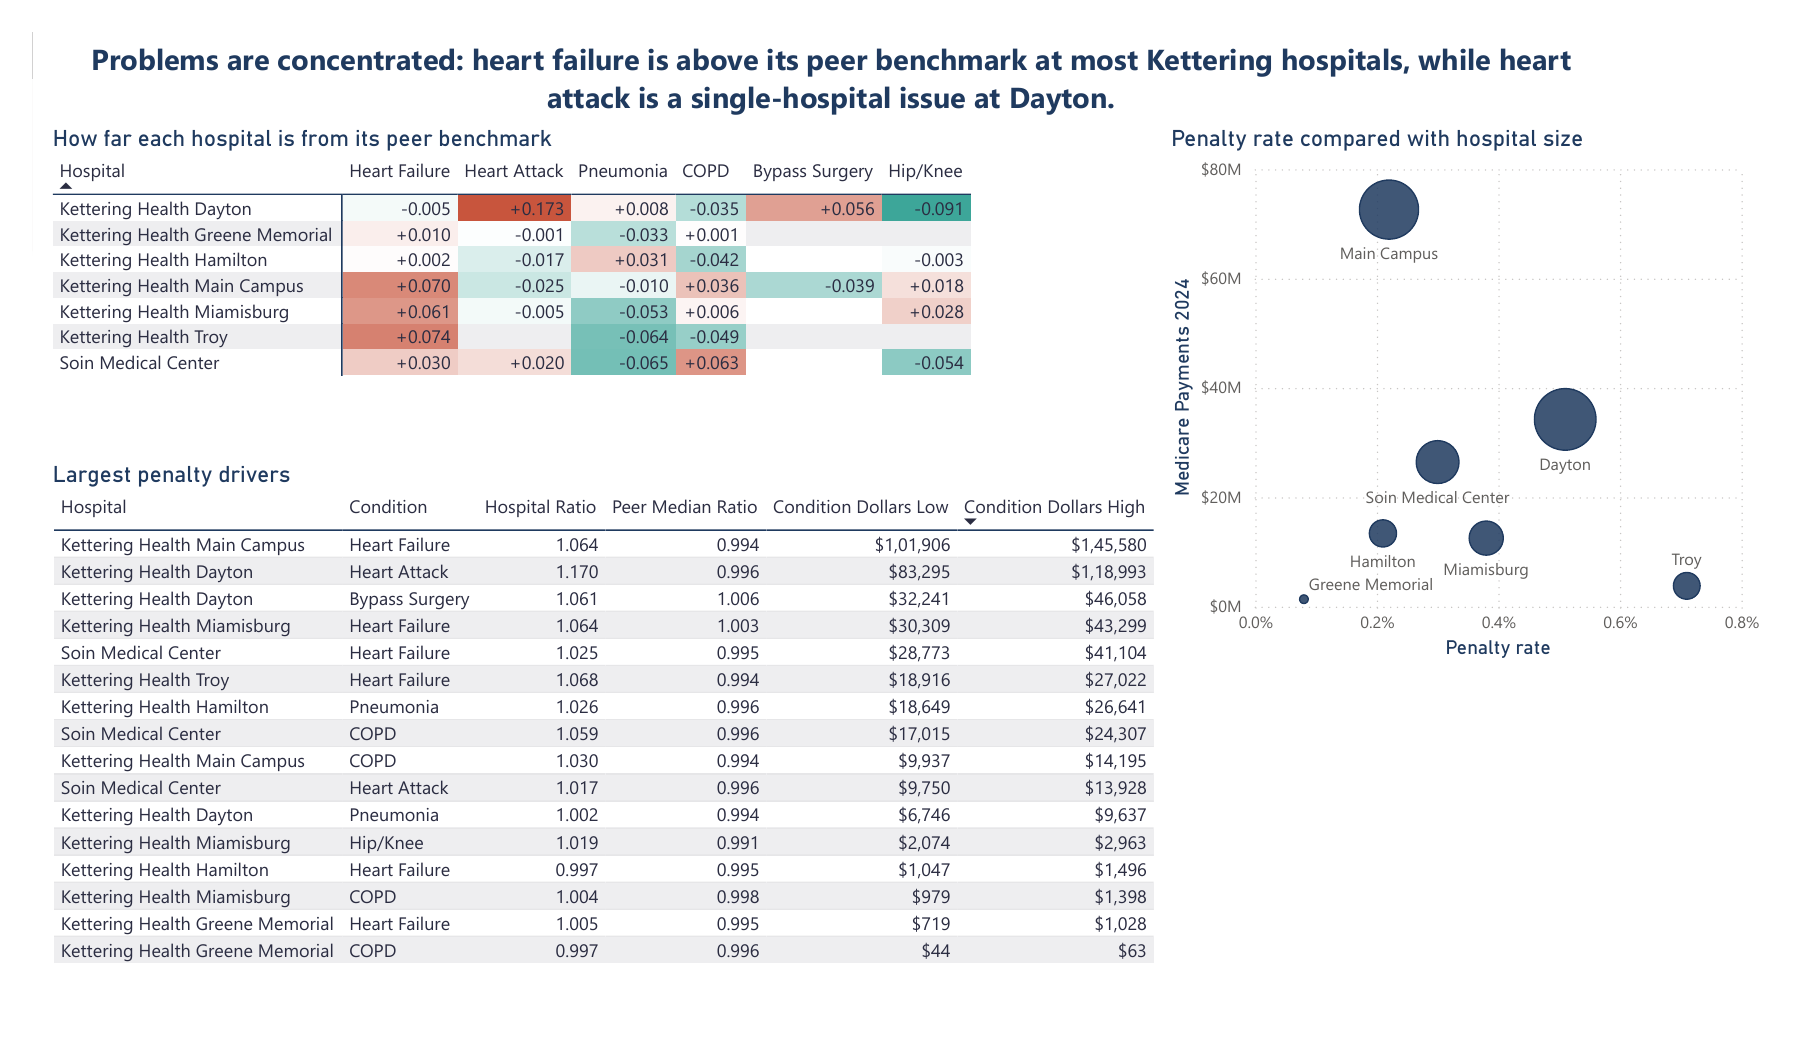

Layout of this report page (visuals, bound fields, positions):
{"tool":"powerbi","page":{"name":"Hospital and Condition Detail","canvas":[1280,720],"ordinal":1},"visuals":[{"type":"textbox","box":[10,0,1160,68.6],"z":0},{"type":"pivotTable","title":"How far each hospital is from its peer benchmark","fields":{"Rows":["dim_hospital.display_name"],"Columns":["dim_condition.condition_short"],"Values":["_measures.Ratio Gap vs Peer"]},"box":[10.1,67.9,826.1,248.5],"z":1000},{"type":"scatterChart","title":"Penalty rate compared with hospital size","fields":{"X":["_measures.Penalty Rate"],"Y":["_measures.Medicare Payments 2024"],"Size":["_measures.Estimated Penalty High"],"Category":["dim_hospital.Short Name"]},"box":[836.4,68.2,443.6,399.1],"z":2000},{"type":"tableEx","title":"Largest penalty drivers","fields":{"Values":["dim_hospital.display_name","dim_condition.condition_short","_measures.Hospital Ratio","_measures.Peer Median Ratio","_measures.Condition Dollars Low","_measures.Condition Dollars High"]},"box":[10,316.4,826.4,403.6],"z":3000}]}

Visuals, with their boxes in screenshot pixels (x1, y1, x2, y2), scaled from the page's 1280x720 canvas onto the 1799x1040 screenshot:
textbox: select_region(14, 0, 1644, 99)
"How far each hospital is from its peer benchmark" pivotTable: select_region(14, 98, 1175, 457)
"Penalty rate compared with hospital size" scatterChart: select_region(1176, 99, 1798, 675)
"Largest penalty drivers" tableEx: select_region(14, 457, 1176, 1039)
